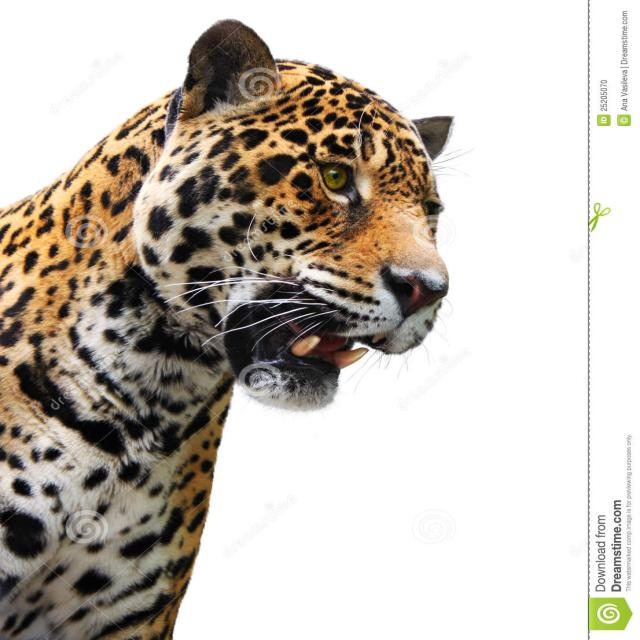Jaguar: (1, 18, 453, 637)
